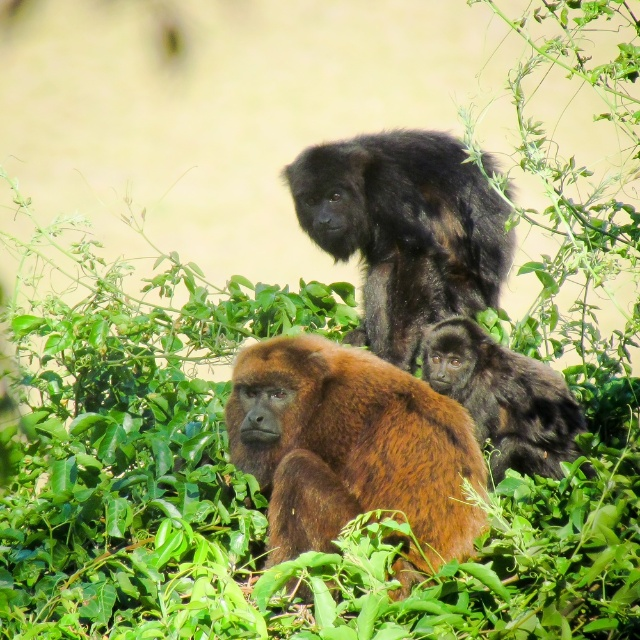Monkey: (218, 328, 516, 590)
